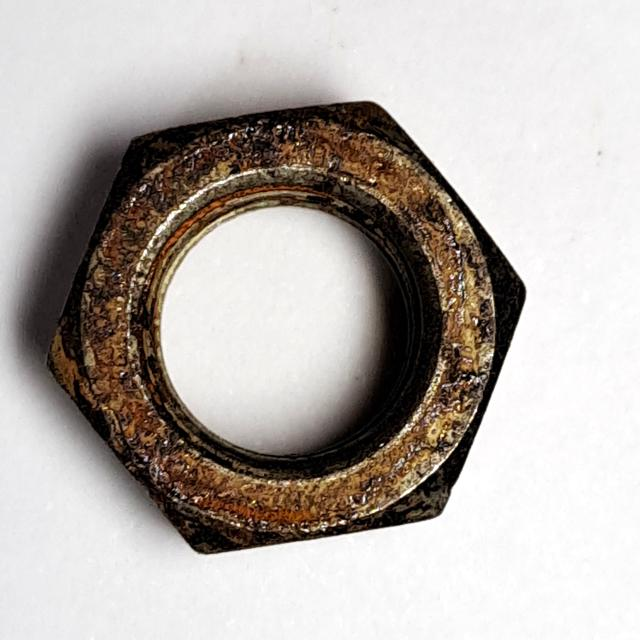Rust: (38, 89, 538, 570)
